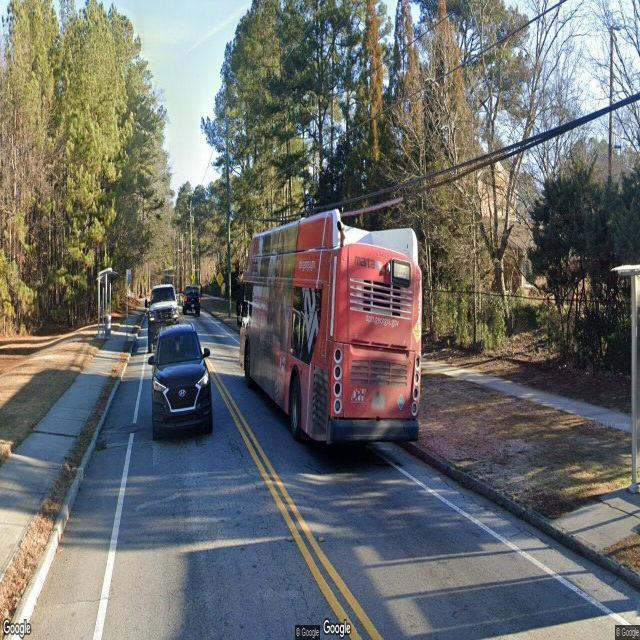shelter: (611, 262, 640, 511), (95, 270, 118, 340)
trash_can: (105, 314, 111, 338)
